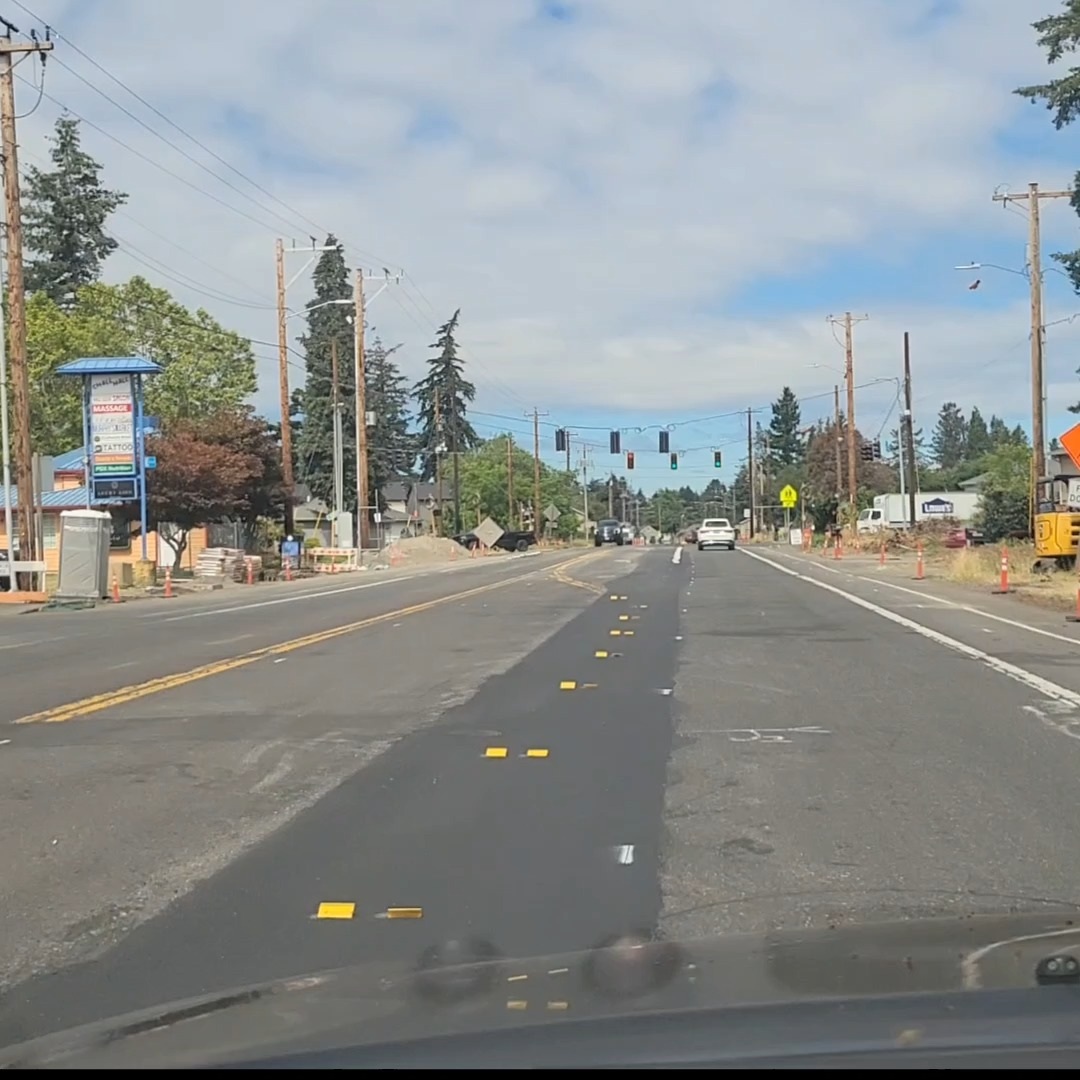car: (696, 519, 738, 550), (593, 518, 633, 546), (492, 529, 537, 552), (939, 527, 987, 547), (682, 528, 698, 543)
crosswalk-sign: (779, 484, 797, 508)
delineator: (991, 545, 1012, 593), (133, 560, 155, 588), (914, 540, 926, 579), (110, 569, 121, 601), (163, 567, 173, 597), (832, 531, 842, 559), (878, 538, 887, 567), (821, 533, 832, 555), (802, 527, 811, 551), (1075, 579, 1080, 619), (283, 558, 292, 580), (851, 529, 860, 551), (246, 559, 253, 584), (449, 542, 457, 559), (469, 541, 476, 557)
